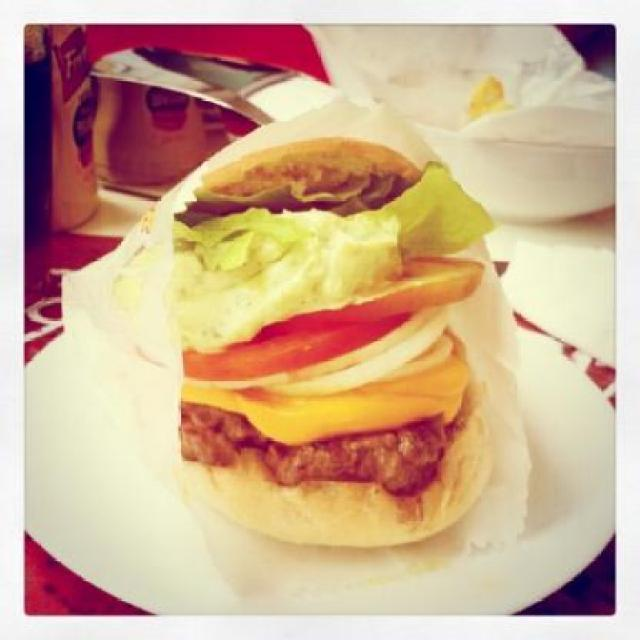Hamburger: (112, 138, 494, 546)
